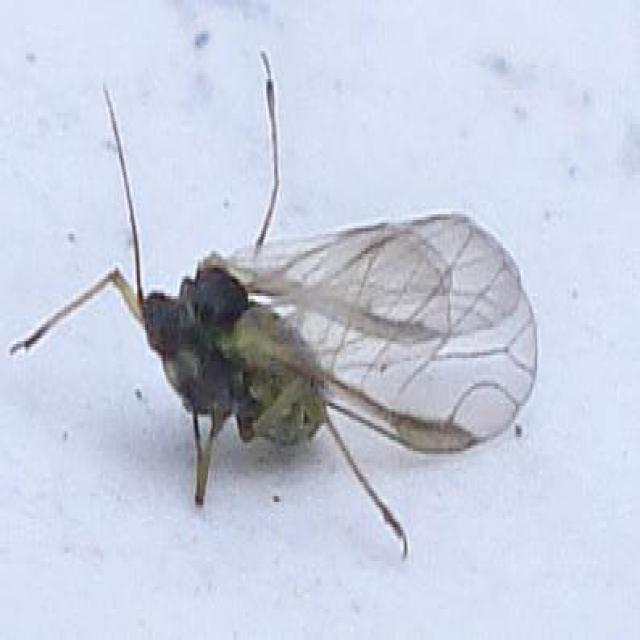Aphids: (7, 46, 551, 579)
